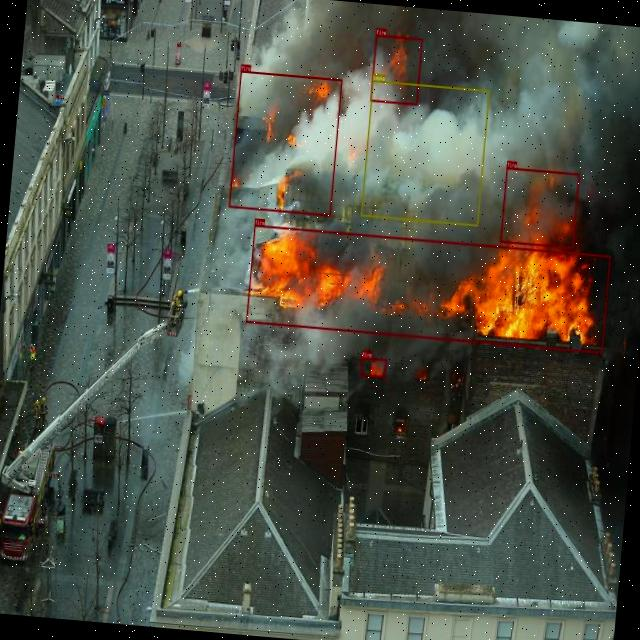fire: (245, 224, 610, 353), (228, 70, 342, 216), (499, 166, 578, 248), (369, 34, 422, 104), (358, 357, 386, 378)
smoke: (360, 79, 489, 226)
